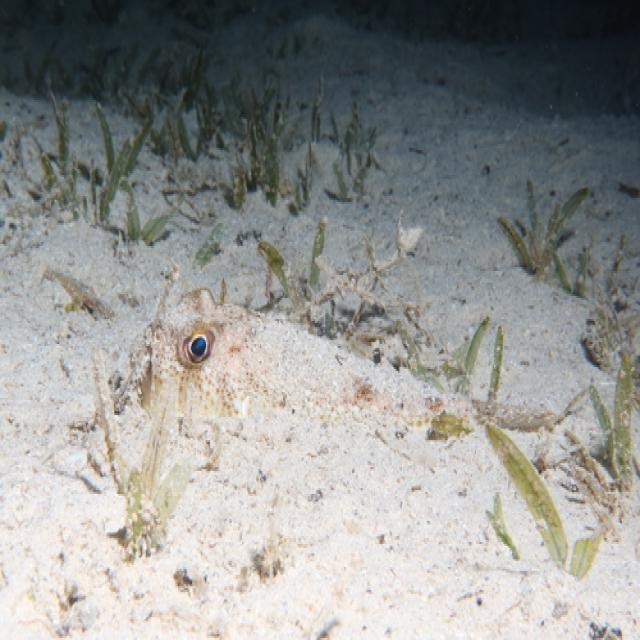Balik: (121, 289, 558, 430)
